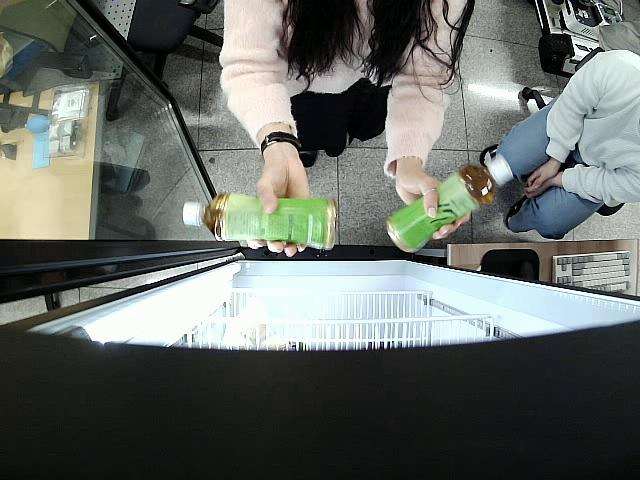00_hand: (248, 165, 311, 258), (396, 175, 471, 239)
19_17cha: (388, 155, 513, 251), (183, 190, 335, 253)
